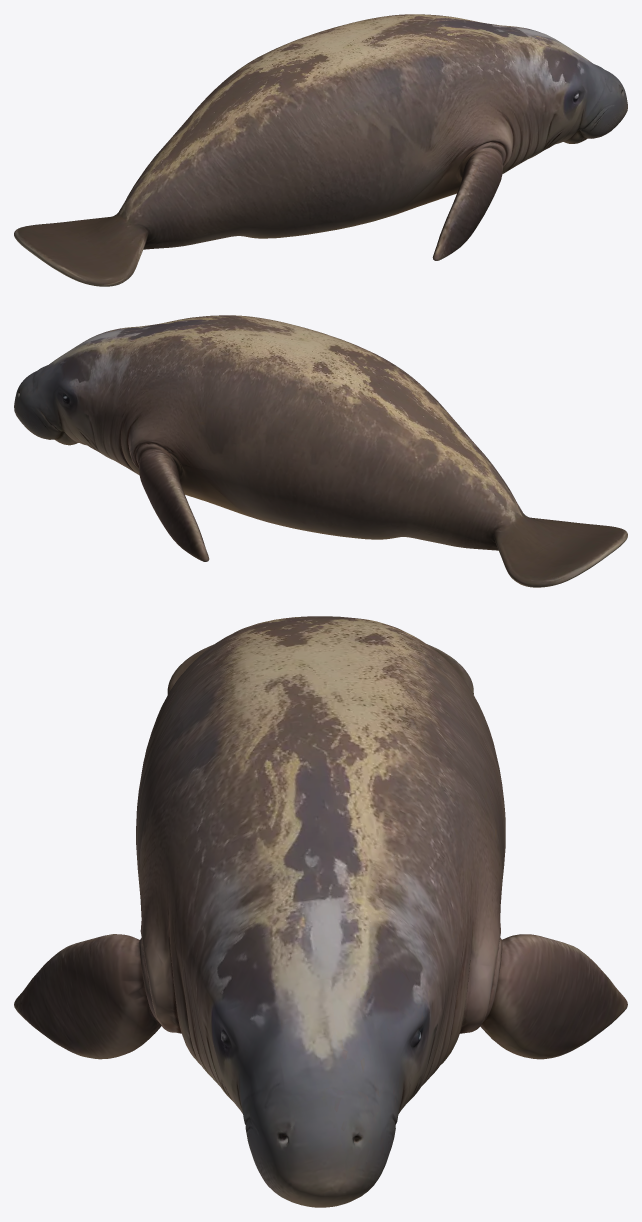
File: manatee.glb
The picture shows the model from 3 angles, top to bottom: view 1: azimuth 30°, elevation 25°; view 2: azimuth 150°, elevation 25°; view 3: azimuth 270°, elevation 25°; orthographic projection. The views are drawn at different scales.
Parts seen in each view (by area): view 1: material; view 2: material; view 3: material.
Boxes of the visible parts, x1,y1,x2,y2 form: material: (14, 14, 627, 286); material: (14, 315, 627, 587); material: (14, 616, 627, 1207).
Size of the model in its own units: 1.18 by 0.3291 by 0.5397.
1 material, 1 textured.
